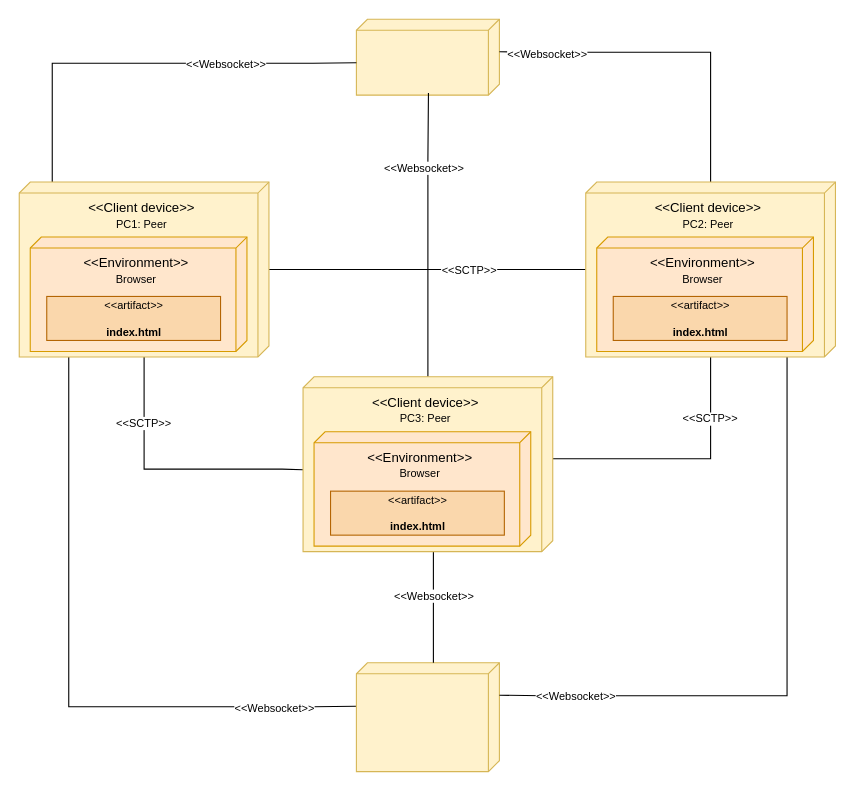
This 855x791 diagram has some shape labels left out. Here are the shapes that lost their labels. From the top down, the centre of each, then its label:
the point at 427,56: <<Server>> STUN Server
the point at 427,717: <<Server>> Signaling Server
